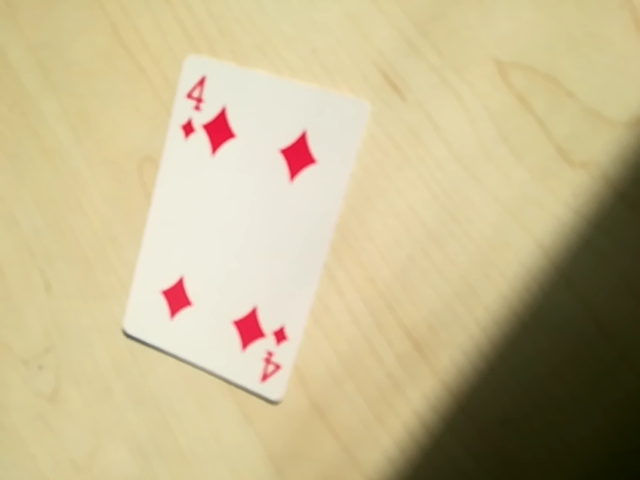fk 4: (175, 65, 219, 155), (246, 316, 294, 385)
